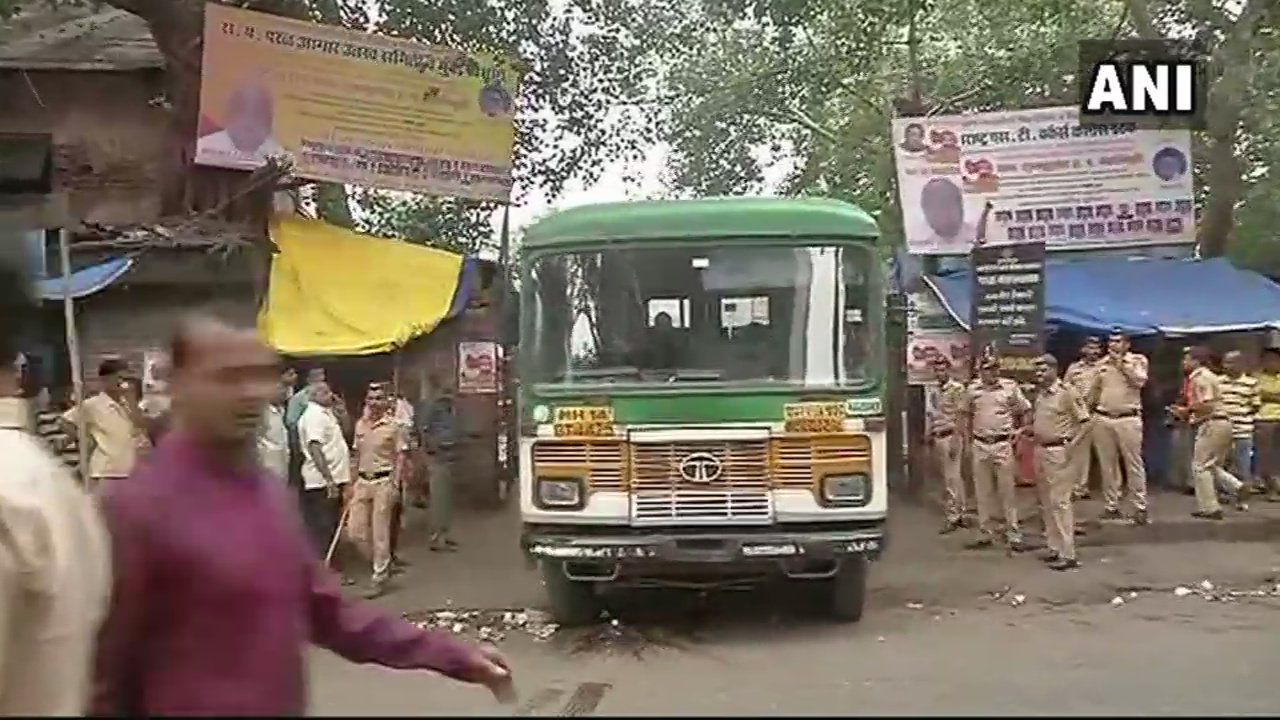bus: (503, 194, 898, 632)
